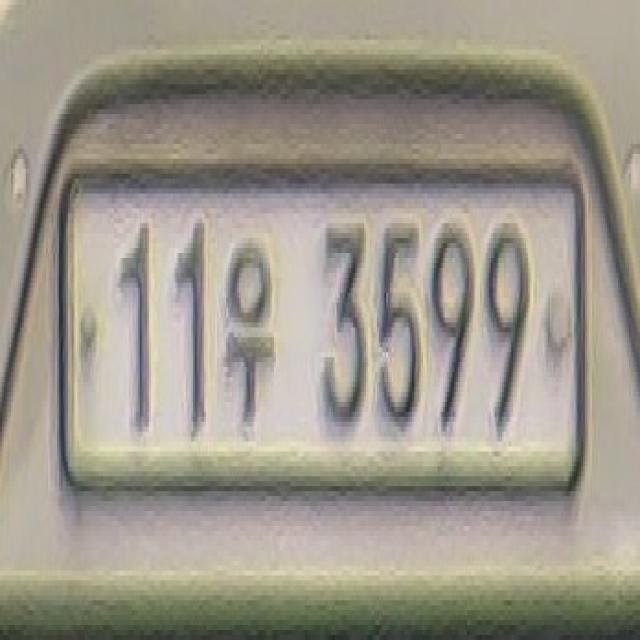1: (103, 214, 162, 442), (166, 218, 215, 437)
3: (314, 208, 372, 442)
5: (373, 214, 425, 452)
9: (478, 214, 535, 462), (423, 218, 478, 456)
license_plate: (53, 144, 594, 506)
u: (219, 223, 279, 437)
